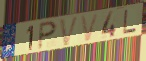1: (26, 25, 34, 52)
4: (100, 10, 118, 39)
L: (122, 9, 137, 35)
P: (37, 20, 59, 51)
V: (59, 15, 81, 48), (80, 12, 100, 43)
